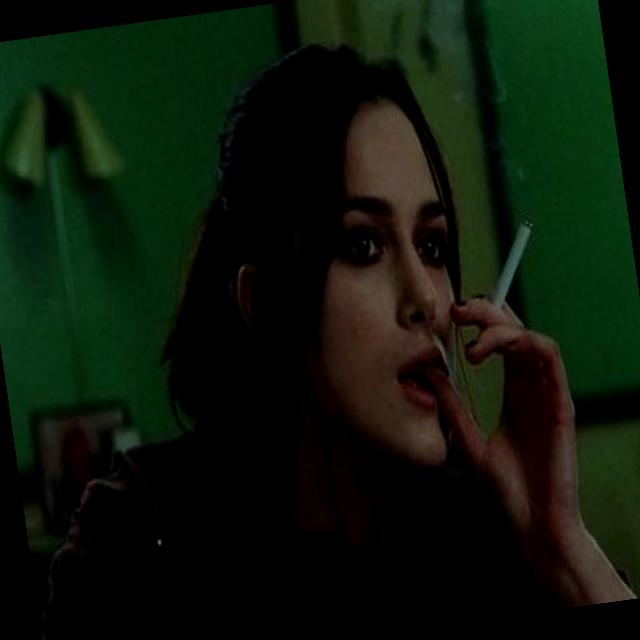smoke: (459, 164, 566, 373)
